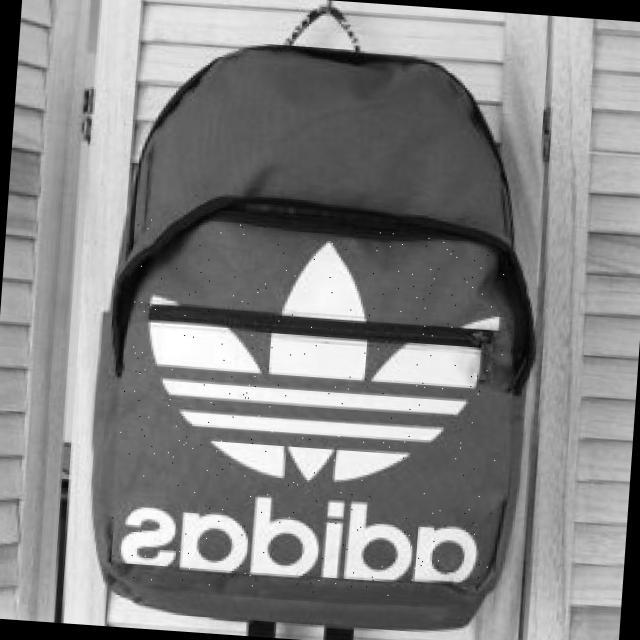Adidas: (107, 215, 512, 605)
